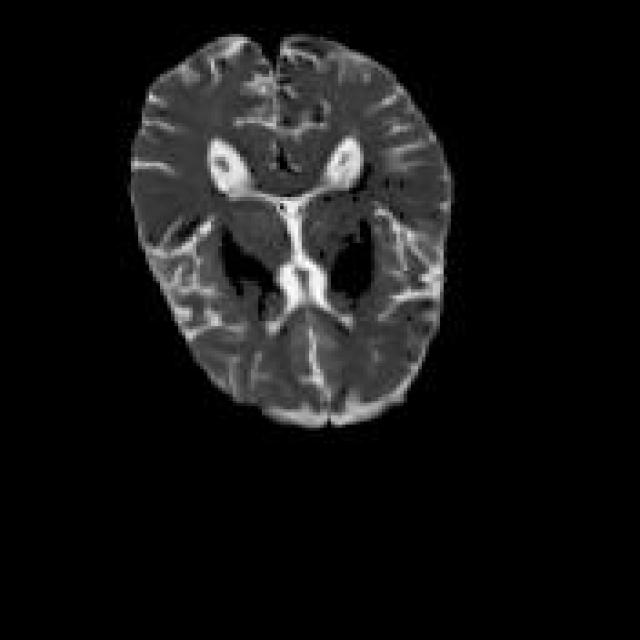parkinson: (123, 28, 454, 430)
